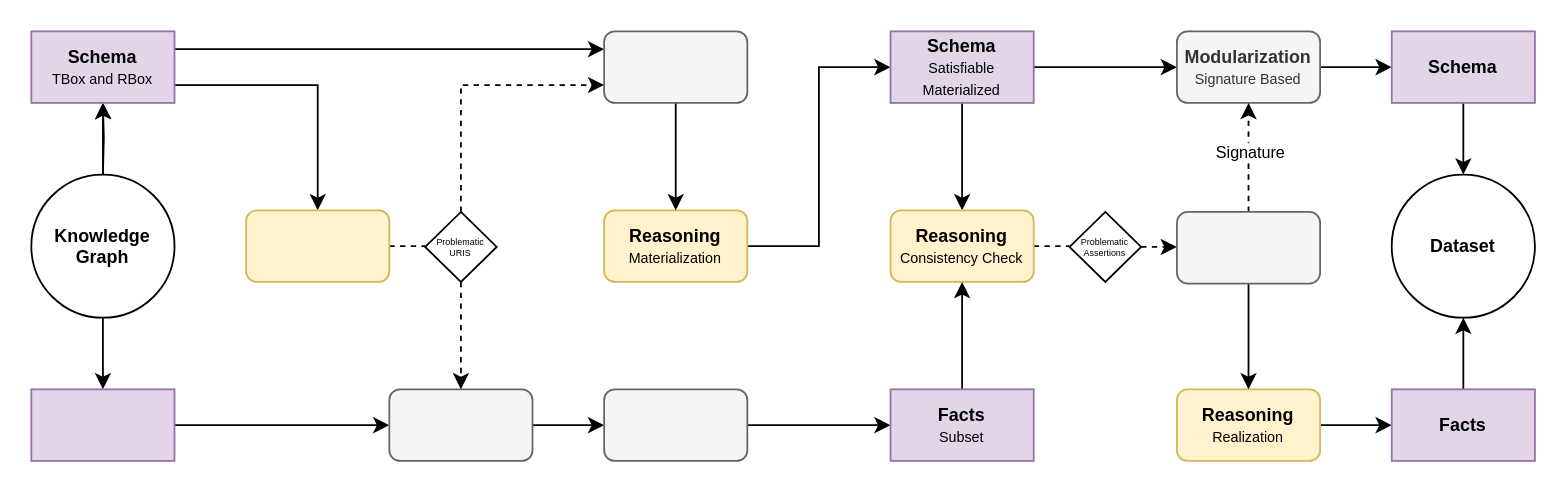
Some shapes in this 1566 by 492 pixel diagram are drawn without their labels. The shapes that lost their labels are listed below. From the top down, each one's centre as x and y in pixels, then its label:
point 674,66: Extraction Schema Subset
point 316,245: Reasoning Satisfiability Check
point 1247,247: Extraction Remove Assertion
point 102,424: Facts ABox
point 460,424: Filtering Remove Input URIs
point 674,424: Extraction Subgraph
